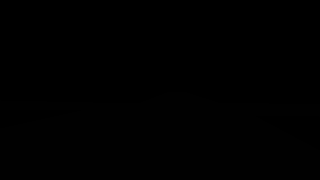go_ahead: (259, 22, 302, 55)
